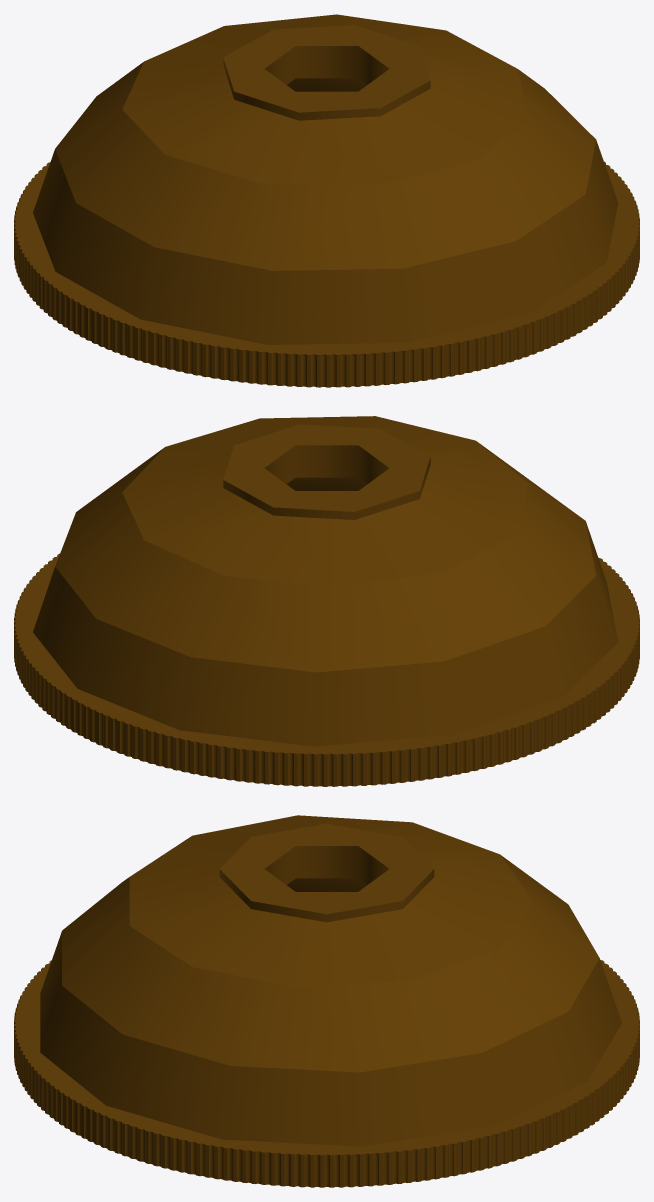
File: Pied Timbre - Dome_Heures.obj
3 views of the same model, one above another, from view 1: azimuth 30°, elevation 25°; view 2: azimuth 150°, elevation 25°; view 3: azimuth 270°, elevation 25° (orthographic).
Visible parts, largest first — view 1: Face_205, Face_204, Face_206, Face_4, Face_208, Face_209, Face_207, Face_203; view 2: Face_205, Face_204, Face_206, Face_4, Face_208, Face_209, Face_207, Face_203; view 3: Face_205, Face_204, Face_206, Face_4, Face_208, Face_209, Face_207, Face_203.
Boxes of the visible parts, x1,y1,x2,y2 form: Face_205: (55, 62, 595, 270); Face_204: (33, 140, 618, 344); Face_206: (122, 14, 528, 185); Face_4: (14, 161, 639, 354); Face_208: (223, 25, 430, 112); Face_209: (264, 46, 389, 84); Face_207: (223, 58, 430, 120); Face_203: (287, 78, 366, 91); Face_205: (55, 442, 595, 672); Face_204: (33, 522, 617, 746); Face_206: (122, 416, 528, 587); Face_4: (14, 553, 639, 754); Face_208: (223, 424, 430, 511); Face_209: (264, 445, 389, 484); Face_207: (223, 457, 430, 519); Face_203: (287, 477, 366, 490); Face_205: (62, 854, 599, 1072); Face_204: (40, 931, 621, 1146); Face_206: (129, 815, 532, 987); Face_4: (14, 960, 639, 1155); Face_208: (220, 823, 433, 914); Face_209: (265, 846, 388, 884); Face_207: (219, 869, 434, 922); Face_203: (287, 878, 366, 891).
Size of the model in its own units: 0.035 by 0.0115 by 0.035.
